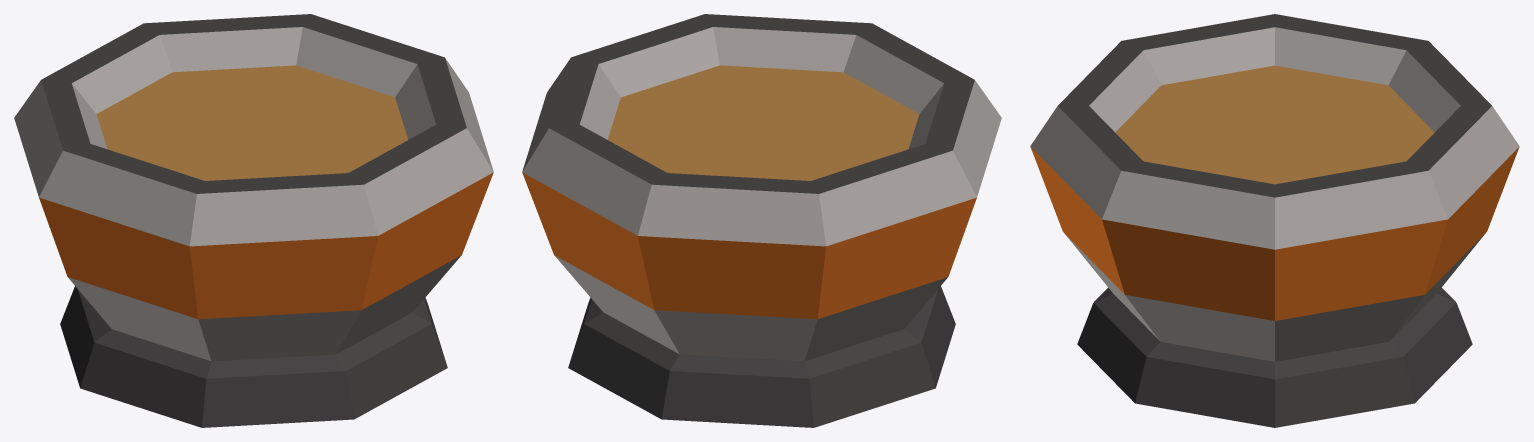
Rendered from scifi_scifi-pot-big-empty.fbx.
3 views of the same model, side by side, from view 1: azimuth 30°, elevation 25°; view 2: azimuth 150°, elevation 25°; view 3: azimuth 270°, elevation 25° (orthographic).
Visible parts, largest first — view 1: scifi_scifi_pot_big_empty; view 2: scifi_scifi_pot_big_empty; view 3: scifi_scifi_pot_big_empty.
Boxes of the visible parts, left/top/right/bottom form: scifi_scifi_pot_big_empty: left=14, top=14, right=493, bottom=427; scifi_scifi_pot_big_empty: left=522, top=14, right=1001, bottom=427; scifi_scifi_pot_big_empty: left=1030, top=14, right=1519, bottom=427.
Bounding box in the file's own units: 200 × 108 × 200.
